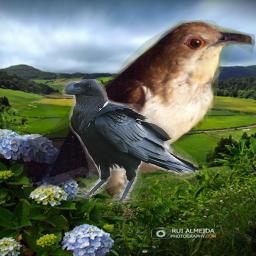Crow: (61, 79, 199, 203)
Cuckoo: (11, 20, 255, 198)
